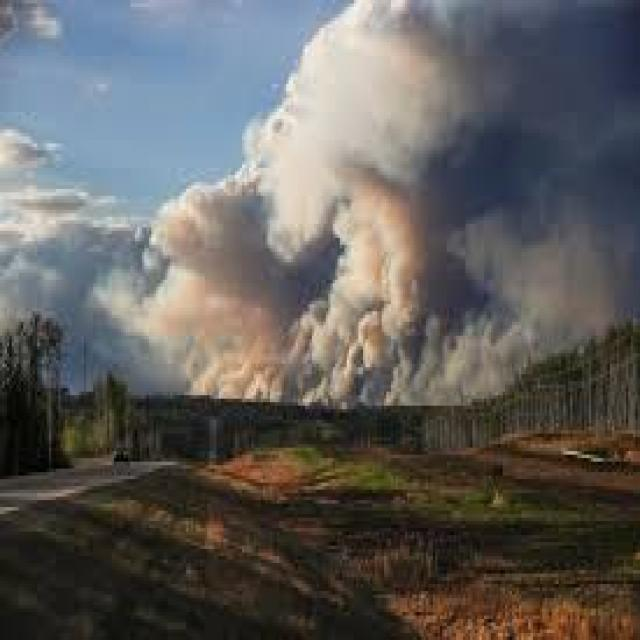Smoke: (0, 0, 639, 401)
